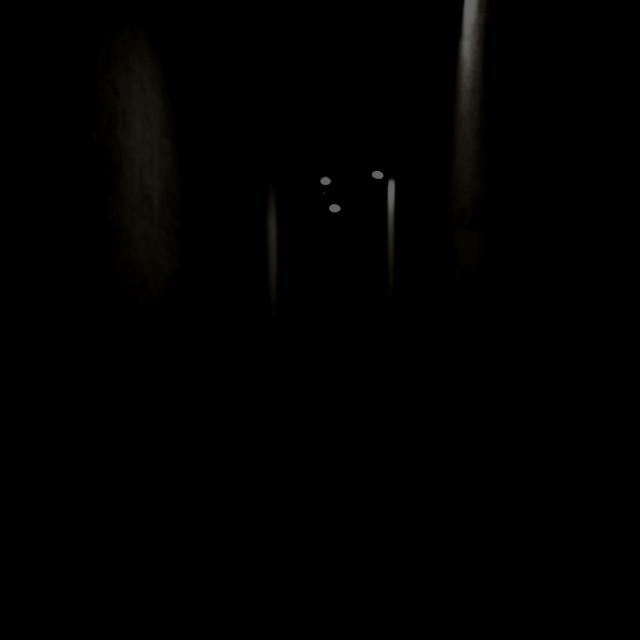Dog: (320, 362, 594, 566)
